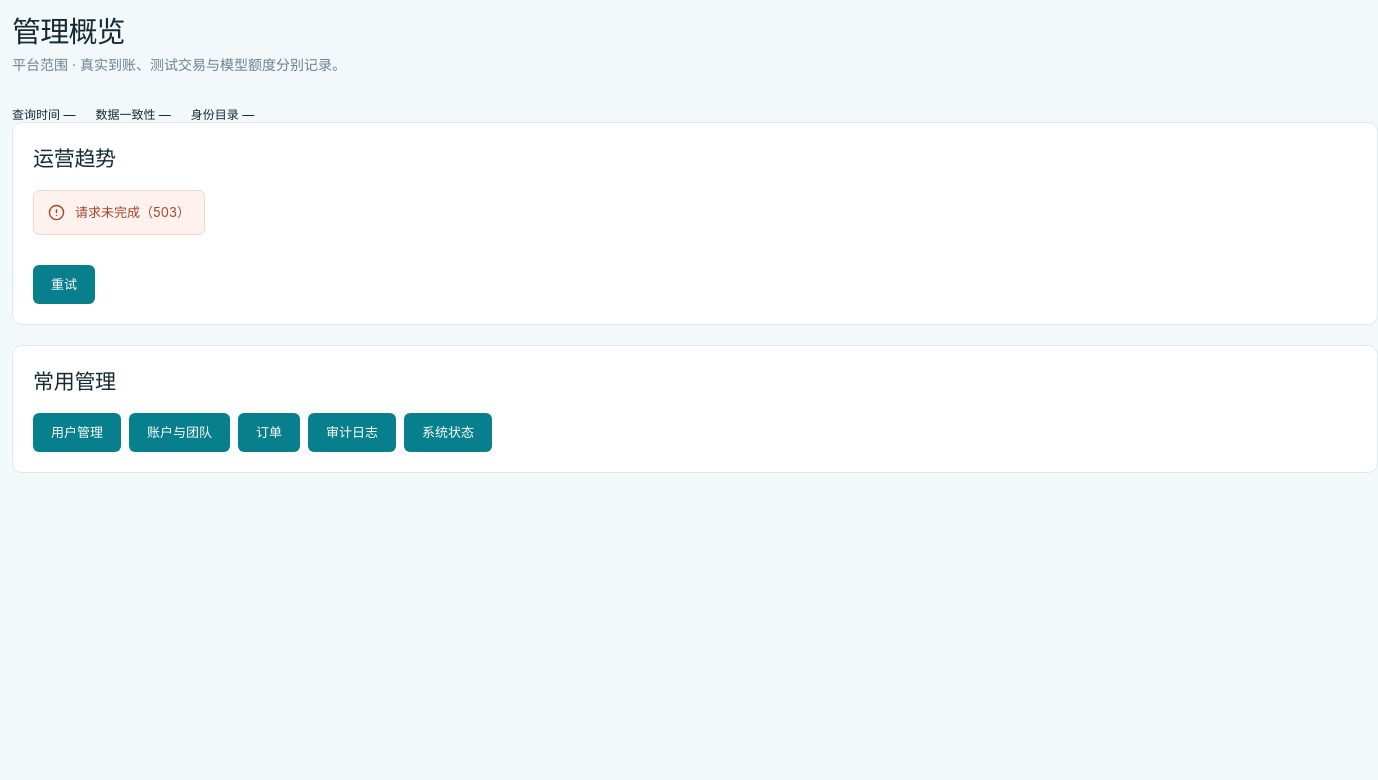
Test: 趋势加载失败在卡片内提示并可重试
The image size is (1378, 780).
Click the button "重试". click: [64, 284]
box: [33,265,95,304]
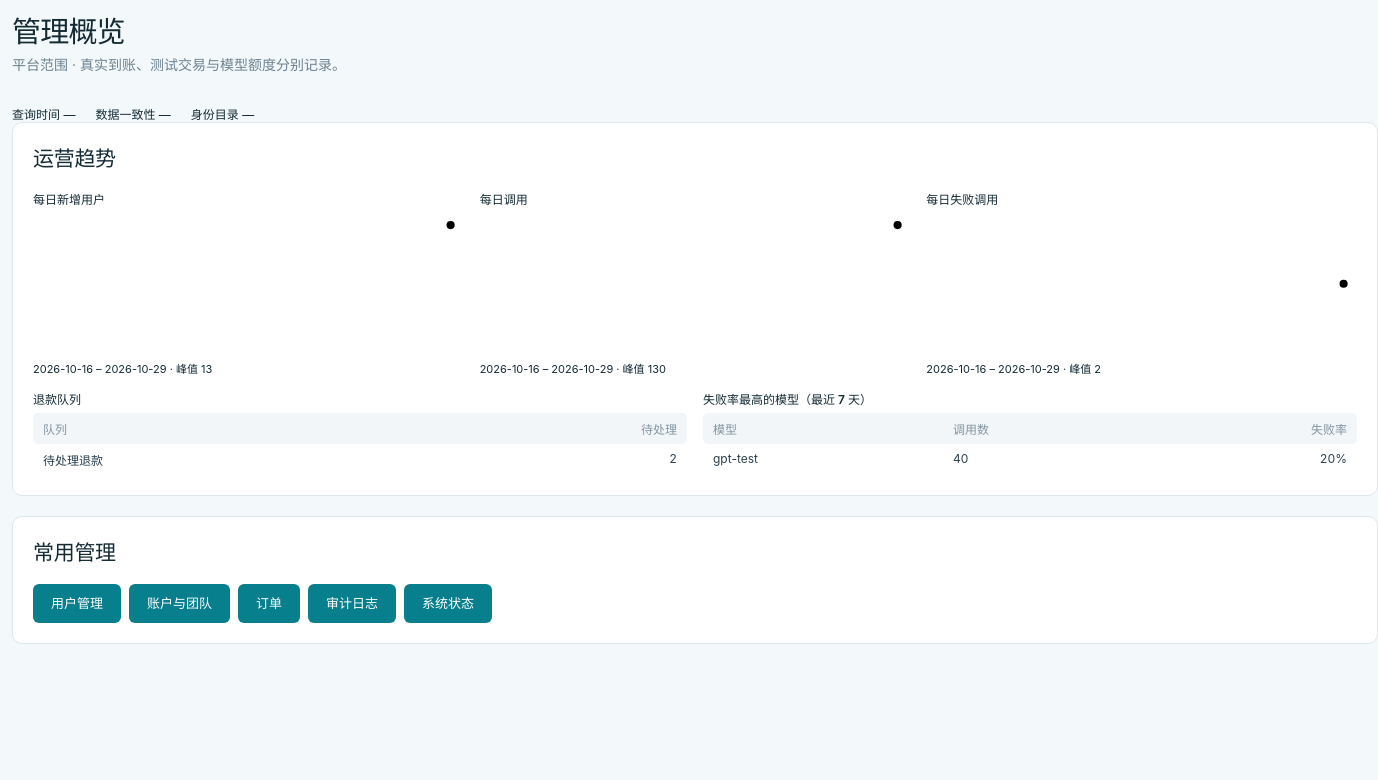
Now the text "gpt-test" is shown, box [703,444,943,473]
